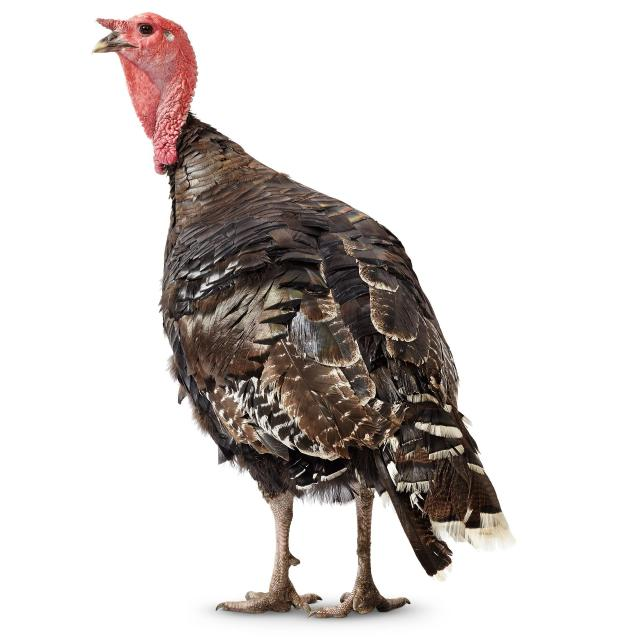Turkey: (80, 6, 524, 624)
